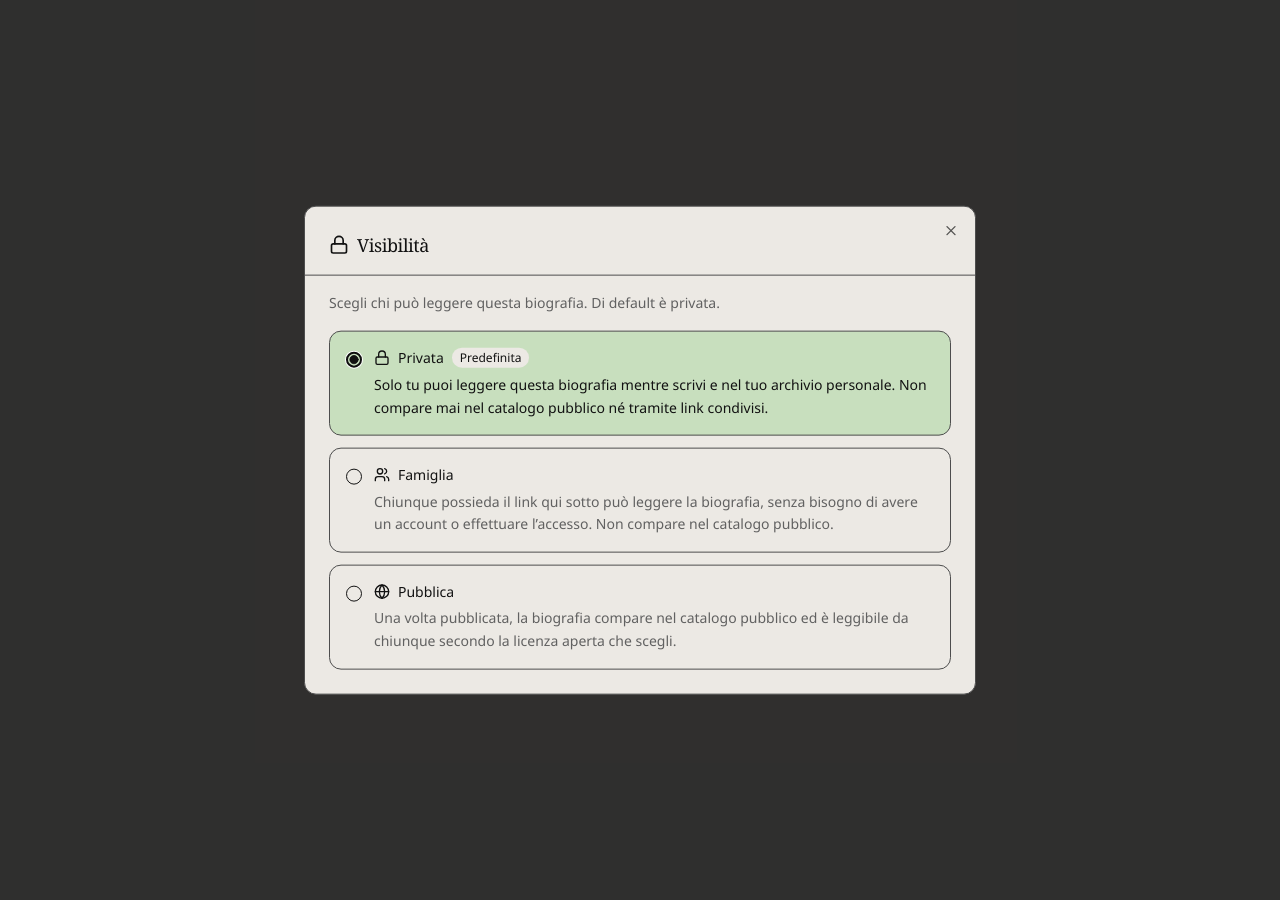
Test: VisibilityDialog — 3 modalità, link famiglia copiabile, licenza pubblica in finestra unica › (a) scelta di Pubblica senza licenza: mostra data-testid="visibility-license-view", nasconde le tre modalità e mantiene UN SOLO role="dialog"
The image size is (1280, 900).
What coordinates should you click on to do the following:
click the 3rd radio button
I would click on:
 (354, 594)
Its box is left=346, top=586, right=362, bottom=602.
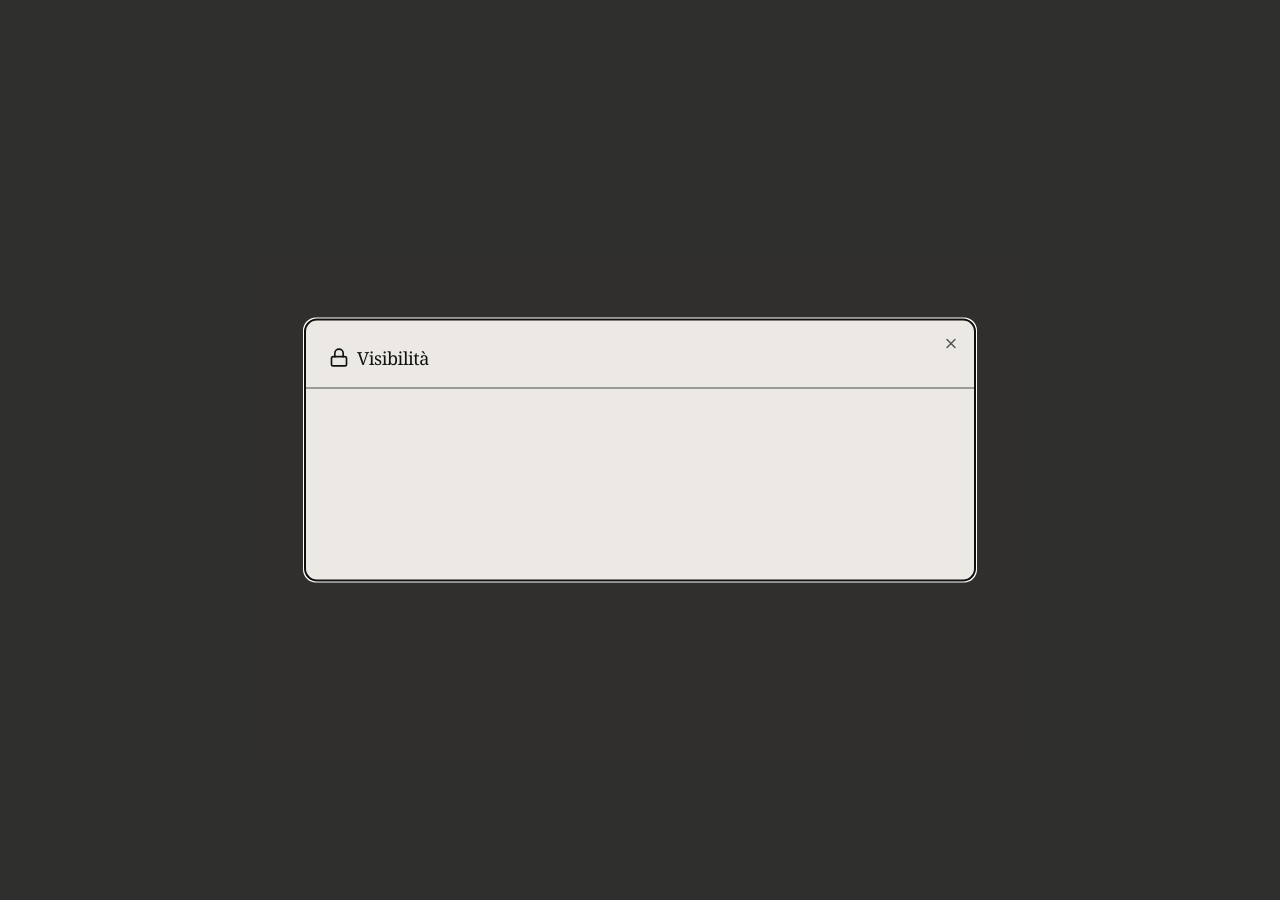
Expected: the label with test id "visibility-option-private" is gone
Expected: the element with test id "visibility-option-family" is gone
Expected: the element with test id "visibility-option-public" is gone
